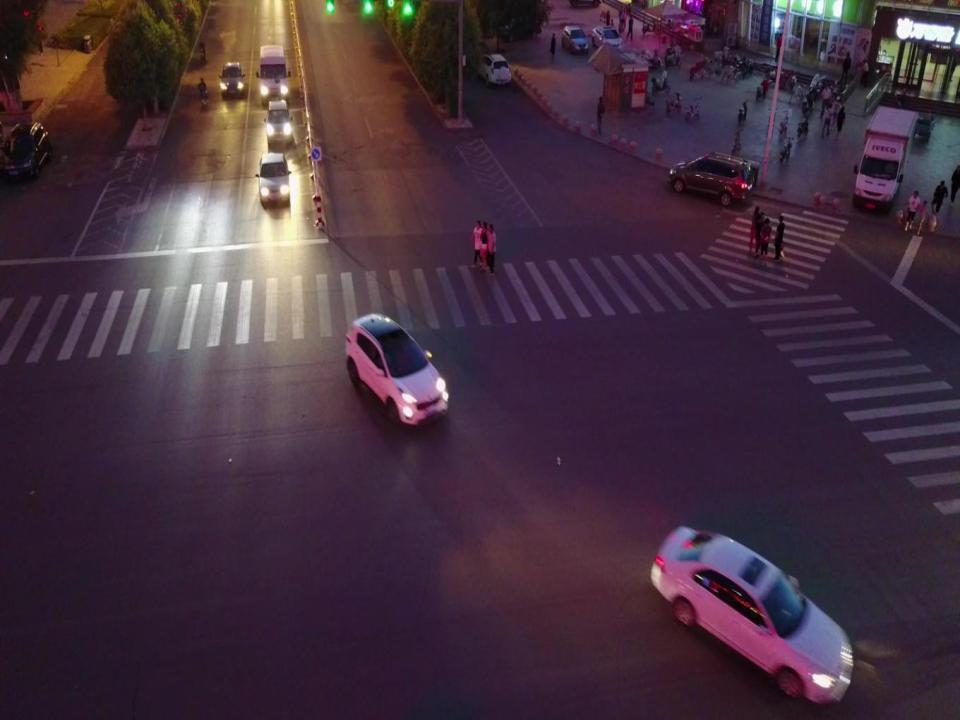car: (652, 524, 854, 700), (348, 312, 449, 422), (668, 153, 756, 204), (0, 116, 51, 176), (258, 151, 290, 202), (475, 50, 515, 86), (267, 102, 291, 143), (562, 23, 591, 56), (222, 61, 242, 99), (594, 27, 622, 53)
truck: (855, 102, 917, 218), (258, 47, 287, 105)
